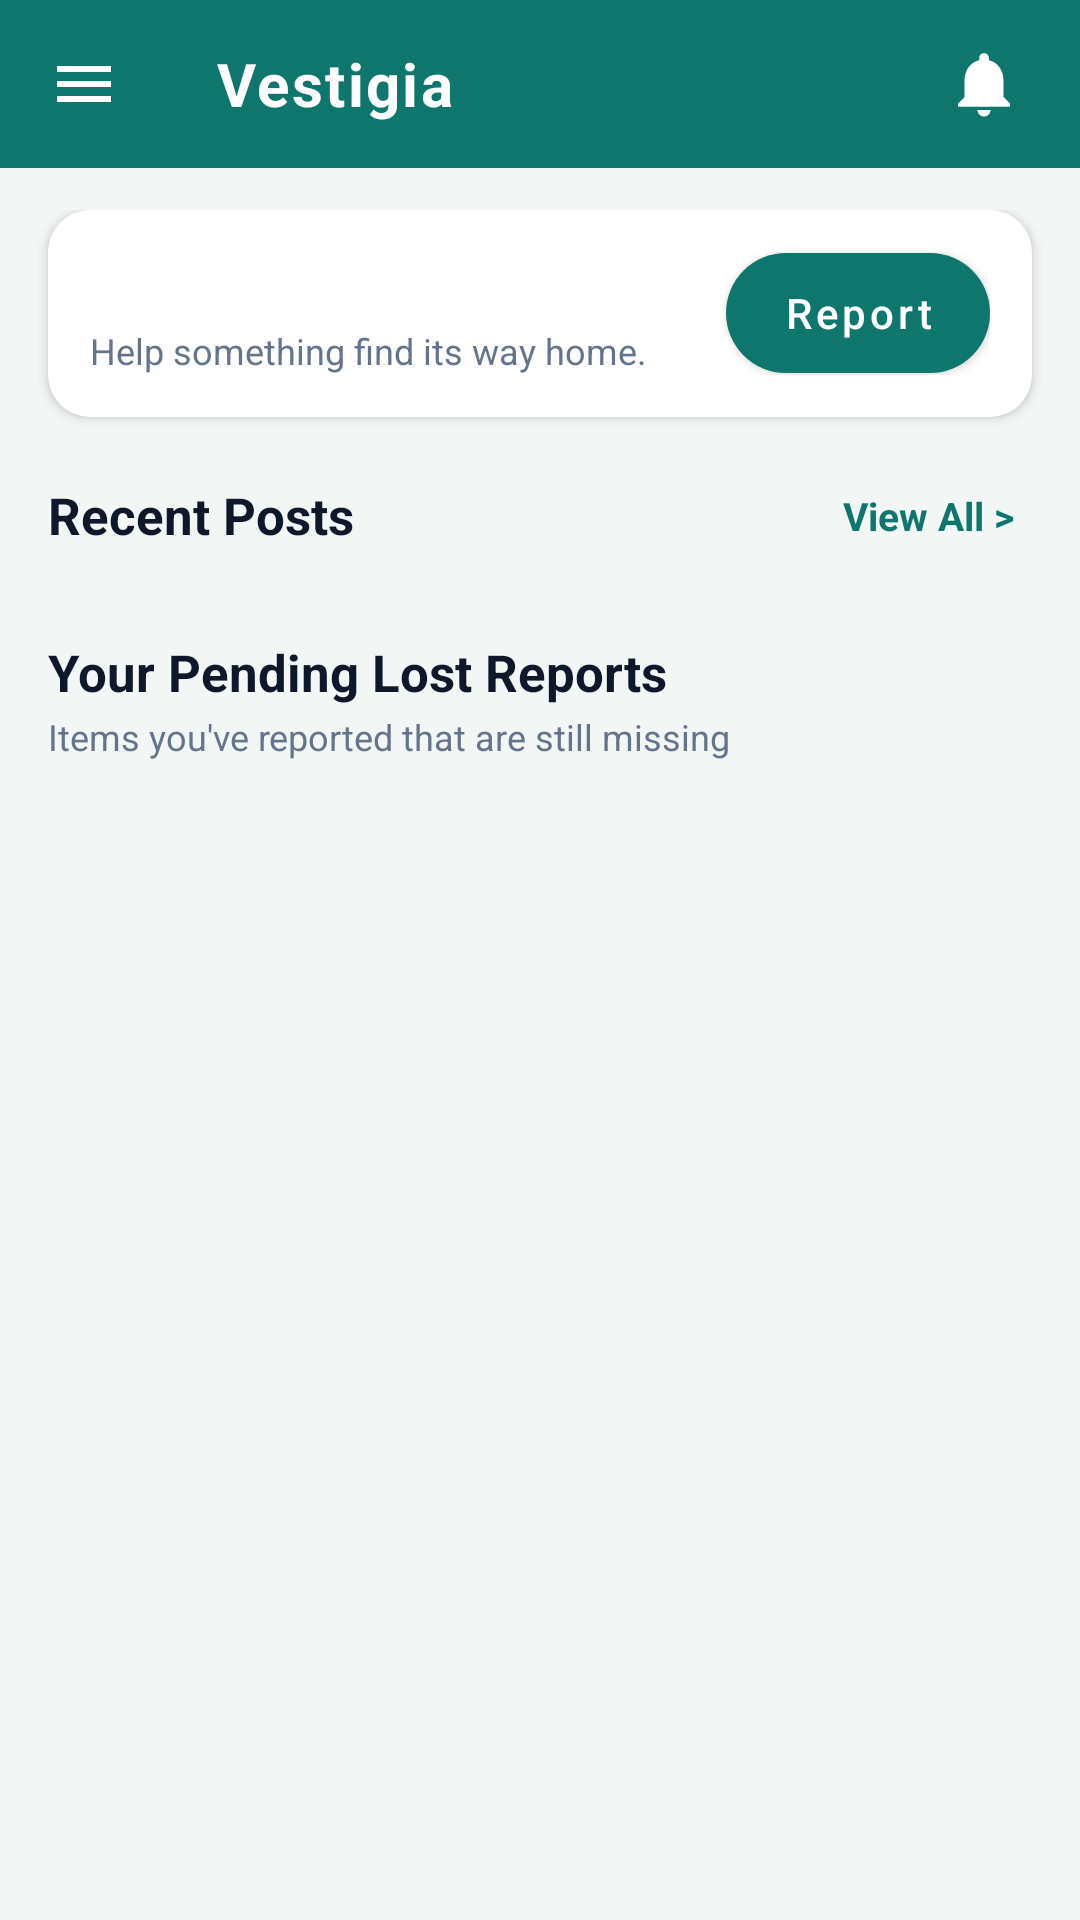

Named icons in this screenshot (1080 × 1920) and their centers, [x,y]:
Notifications: [984,85]
